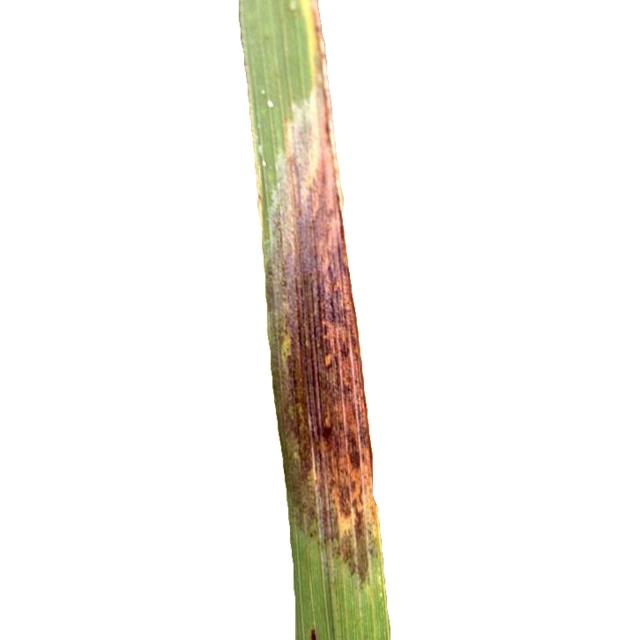Leaf scald: (170, 1, 487, 640)
